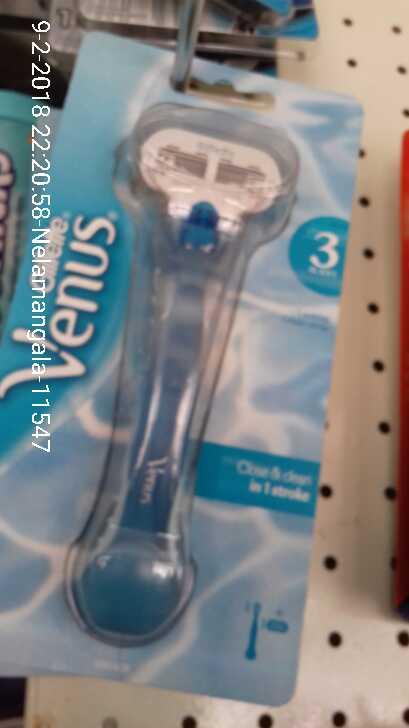venus: (3, 32, 368, 689)
